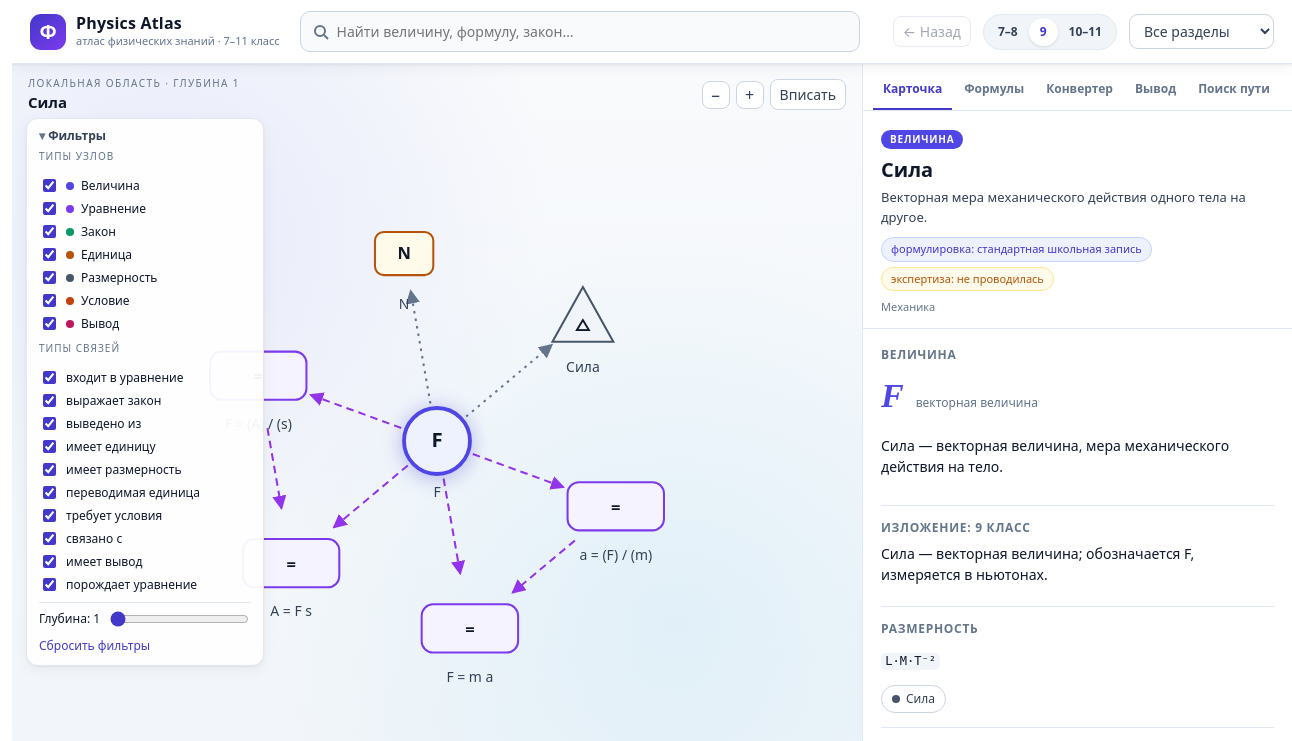
Scenario: atlas application › changing the school level changes the explanation
Type "масса" into the dropdown named "Поиск по атласу".
click(580, 32); type("масса")  # box [300, 11, 860, 52]
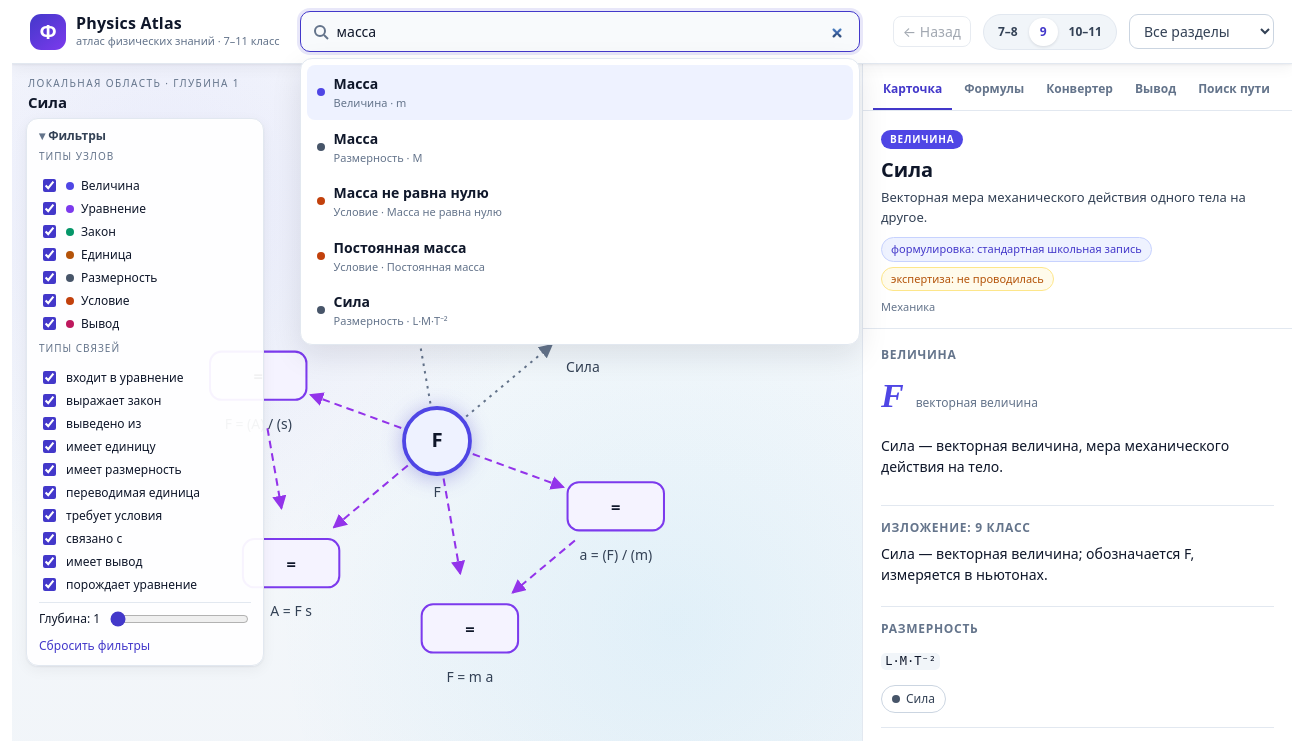
Click the option "Масса Величина · m".
click(356, 84)  # box [307, 65, 853, 120]
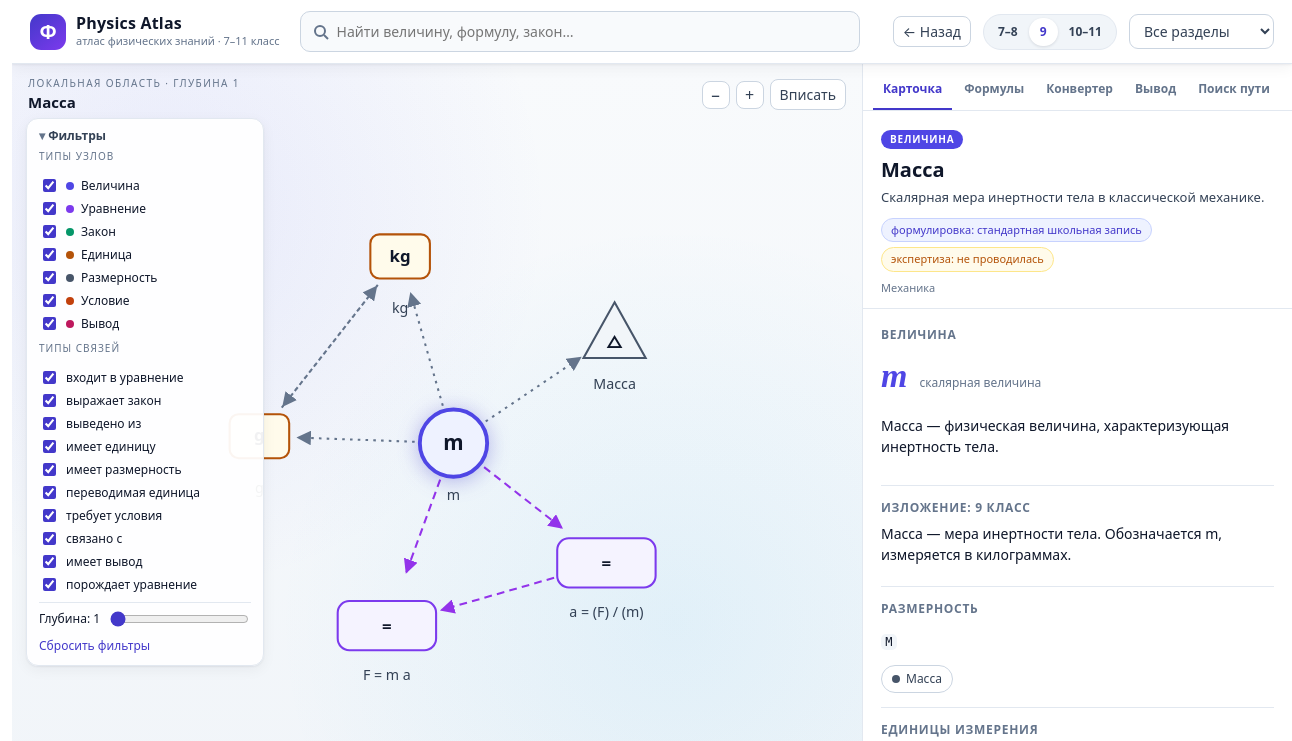
Click the button "7–8".
click(1008, 32)  # box [987, 18, 1029, 46]
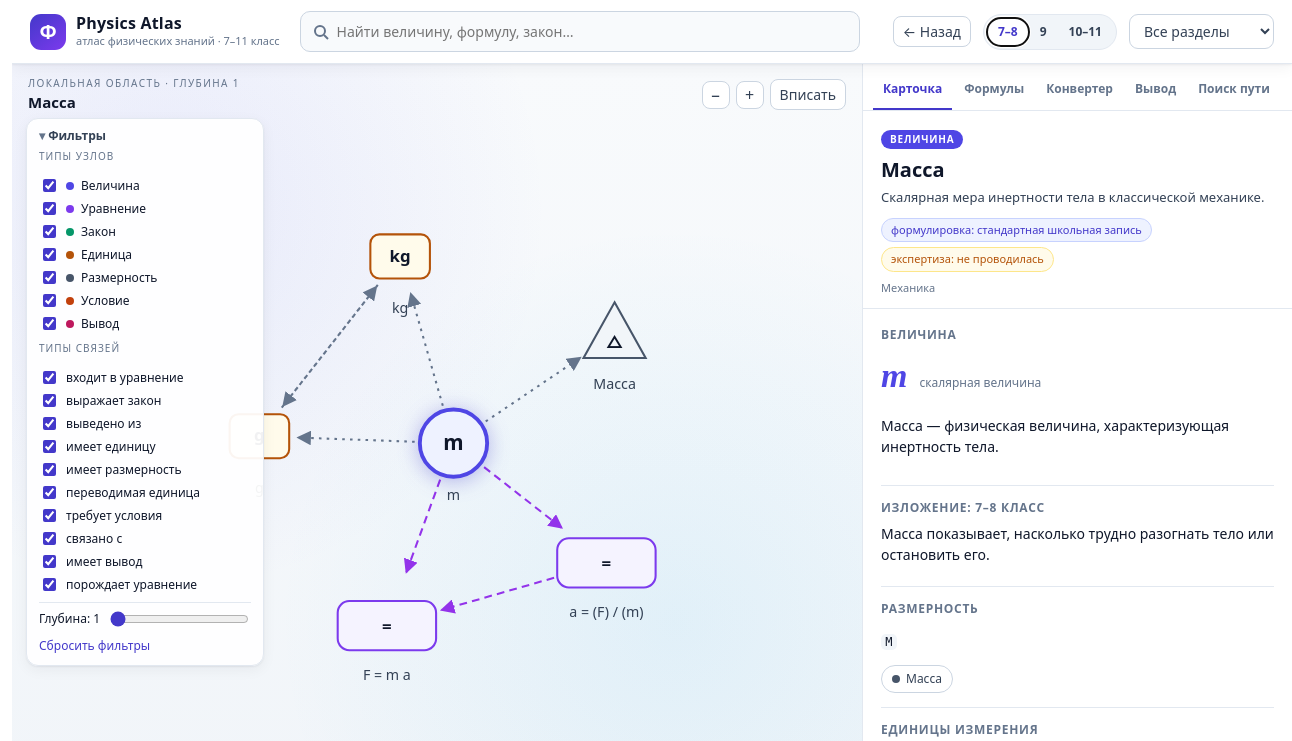
Now the text "Масса показывает, насколько трудно разогнать тело" is shown, box [881, 524, 1274, 564]
Click the button "10–11".
click(1085, 32)  # box [1058, 18, 1113, 46]
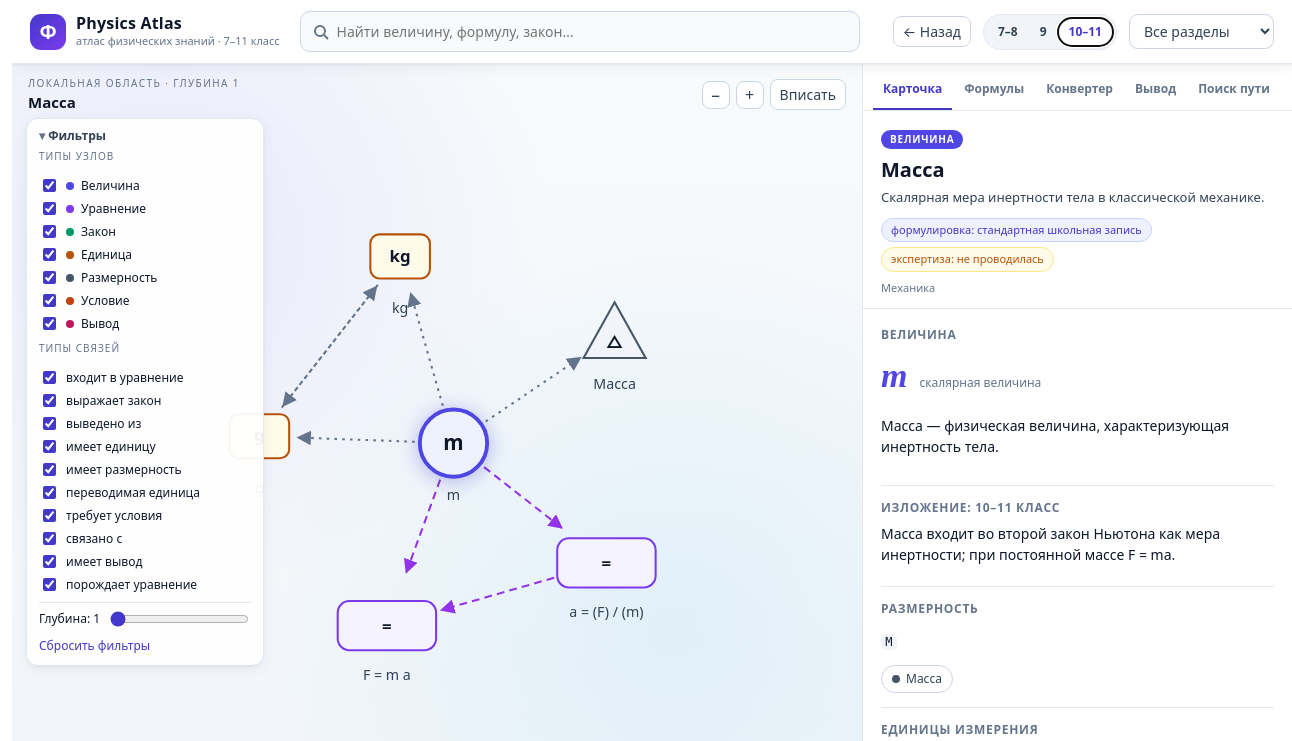
Now the text "Масса входит во второй закон Ньютона" is shown, box [881, 524, 1220, 564]
